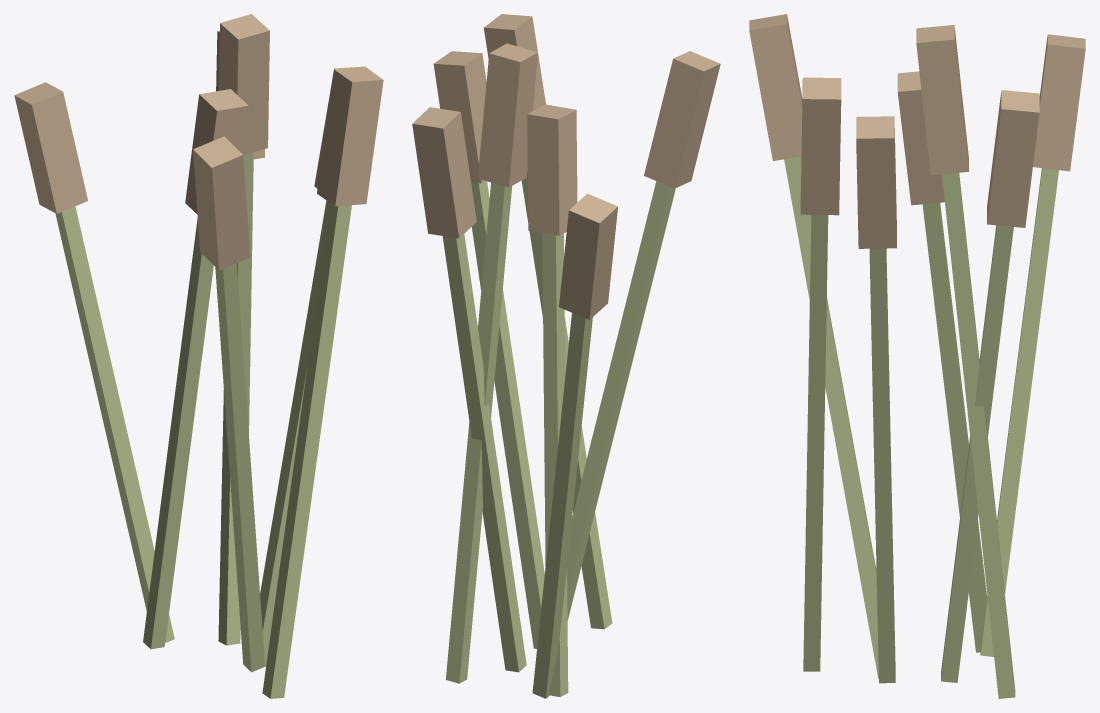
File: reed_s1_01.glb
3 renders of one model, left to right at view 1: azimuth 30°, elevation 25°; view 2: azimuth 150°, elevation 25°; view 3: azimuth 270°, elevation 25°, orthographic. The views are drawn at different scales.
Parts seen in each view (by area): view 1: part00, part01; view 2: part00, part01; view 3: part00, part01.
Part boxes in pixels (x1,y1,x2,y2): part00: (55, 152, 351, 698); part01: (14, 14, 383, 270); part00: (442, 169, 675, 698); part01: (412, 14, 720, 319); part00: (784, 156, 1058, 698); part01: (749, 14, 1085, 248).
Size of the model in its own units: 0.6576 by 1.5 by 0.701.
